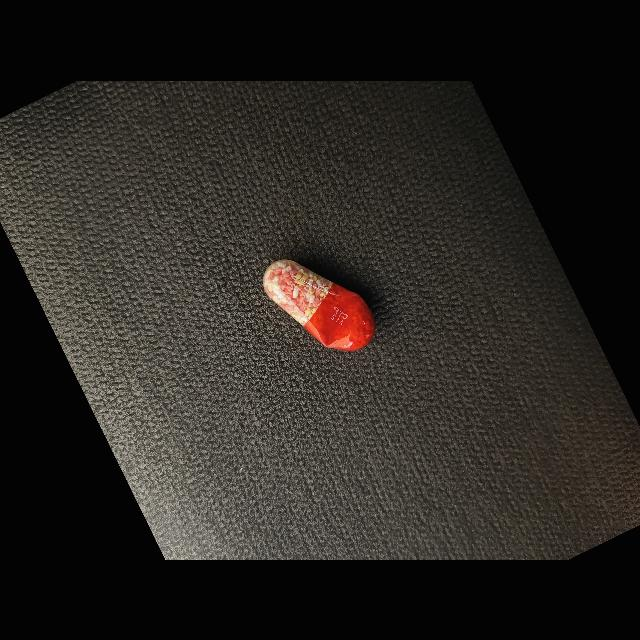Defective Capsule: (263, 259, 375, 351)
